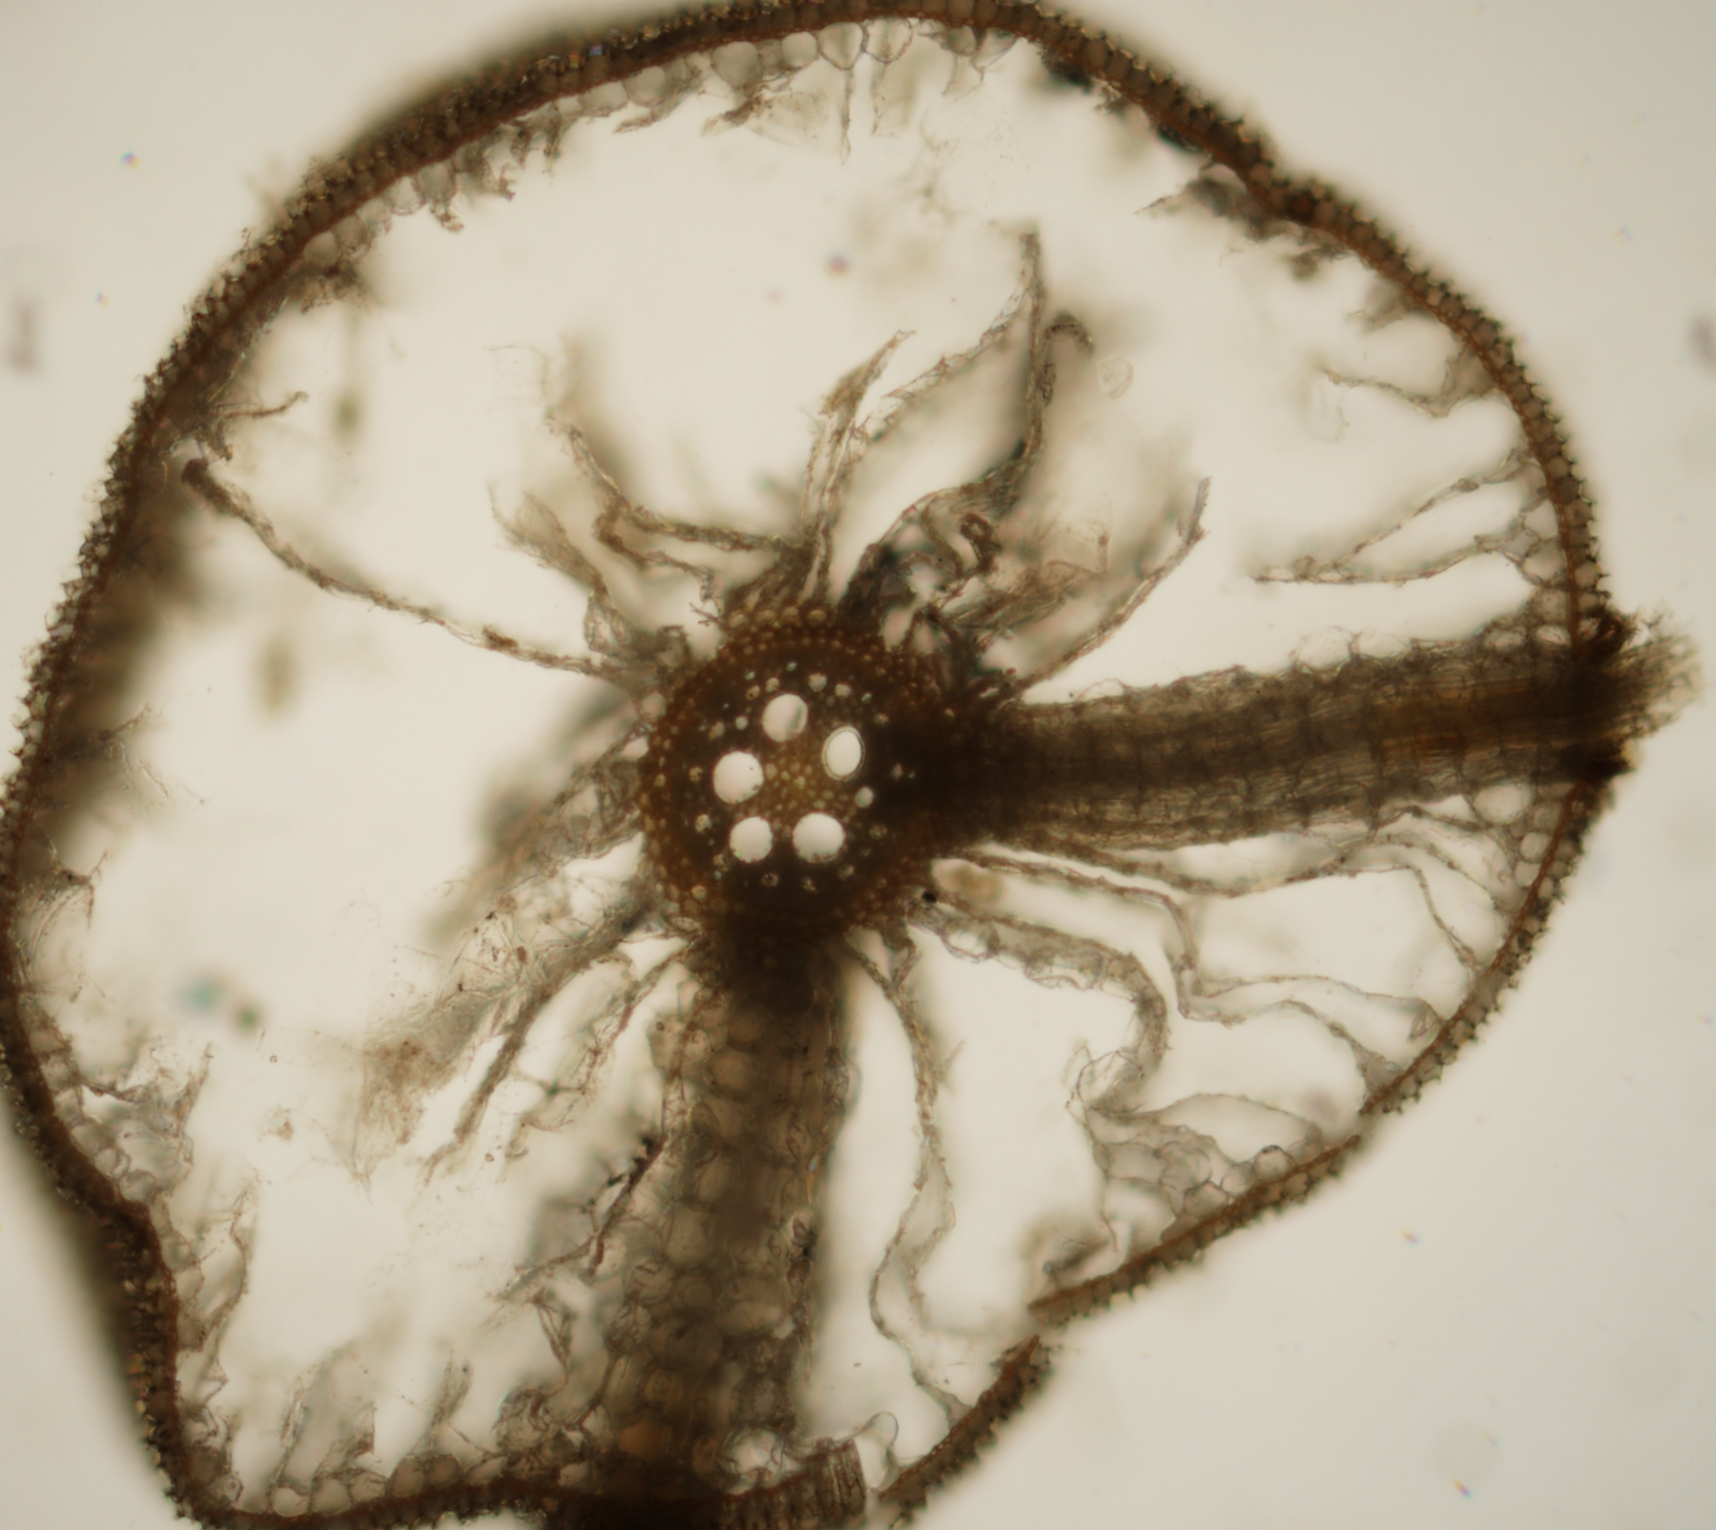lm: (712, 750, 763, 805), (792, 811, 845, 862), (823, 725, 865, 781), (762, 694, 808, 743), (728, 817, 772, 862)
